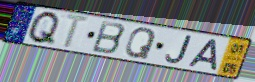A: (186, 38, 220, 72)
B: (89, 19, 127, 56)
J: (164, 35, 193, 65)
Q: (26, 10, 62, 47), (123, 26, 158, 61)
T: (61, 12, 93, 50)
